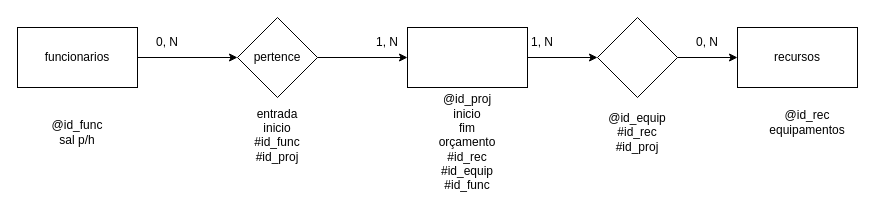
This 875x210 diagram has some shape labels left out. Each missing label, with the centre of its shape:
projetos: (x=467, y=57)
tem: (x=637, y=57)
